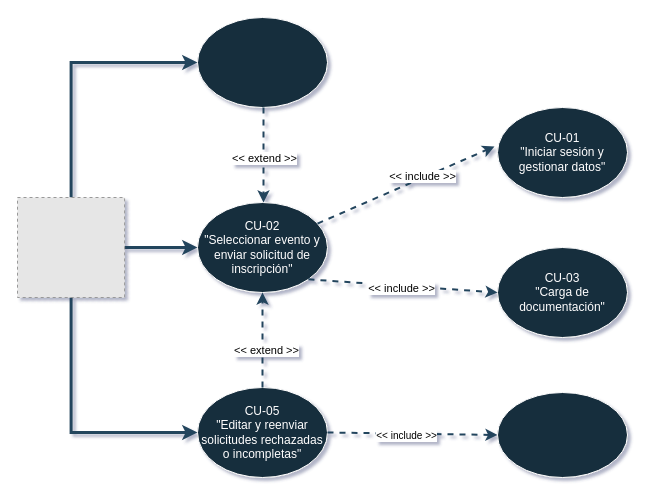
The diagram is 651 pixels wide and 501 high, and some of its shapes have lost their labels. Grey dashed boxes stand in for pictures. Each missing label, with the box of its shape:
CU-04 "Consultar status de solicitudes": (496, 392, 628, 478)
CU-06 "Acceder a contenido de eventos": (196, 16, 328, 108)
